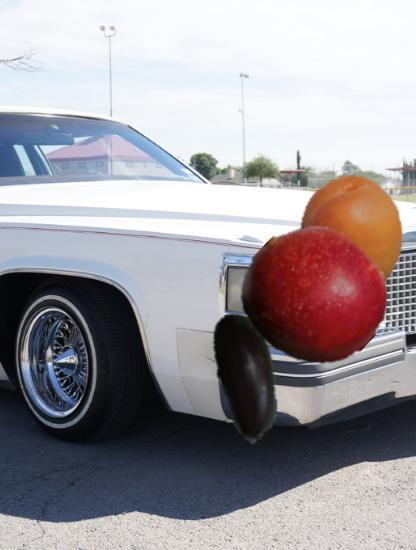Apricot: (290, 175, 412, 297)
Eggplant: (179, 310, 316, 447)
Nectarine: (242, 225, 386, 369)
